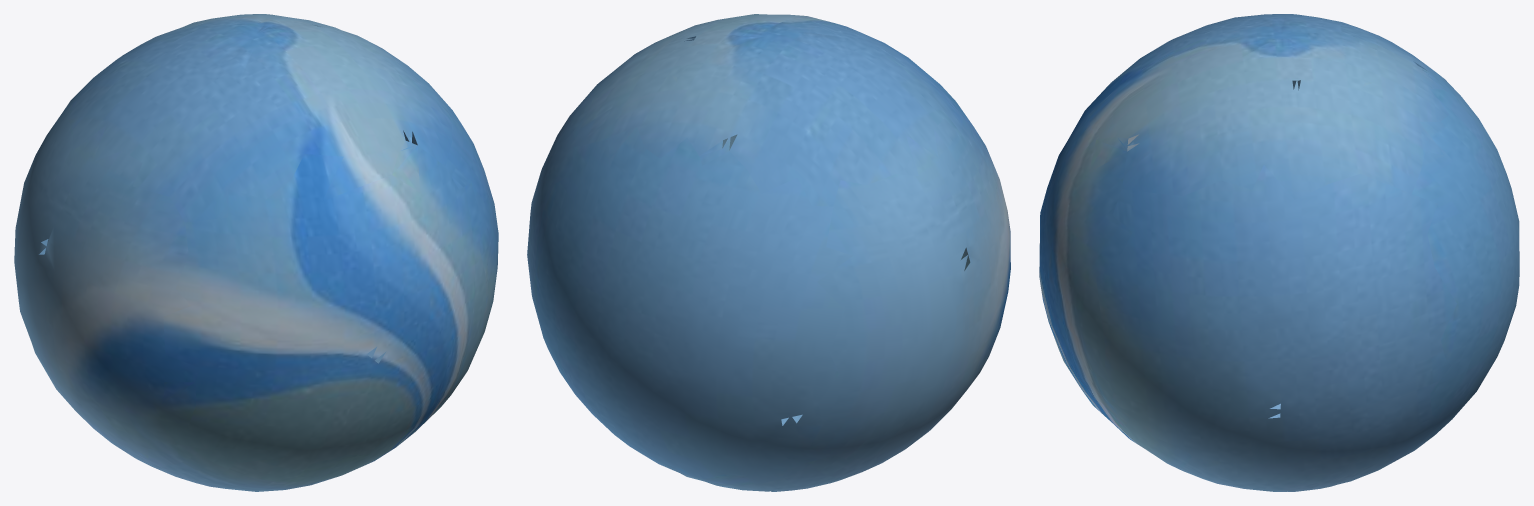
Rendered from marble.glb.
3 renders of one model, left to right at view 1: azimuth 30°, elevation 25°; view 2: azimuth 150°, elevation 25°; view 3: azimuth 270°, elevation 25°, orthographic.
Parts seen in each view (by area): view 1: Mesh0; view 2: Mesh0; view 3: Mesh0.
Boxes of the visible parts, box(x1,y1,x2,y2) form: Mesh0: box(14, 14, 498, 491); Mesh0: box(527, 14, 1010, 491); Mesh0: box(1039, 14, 1519, 491).
Bounding box in the file's own units: 1 × 1 × 1.
Materials: 1 (1 with a texture image).
